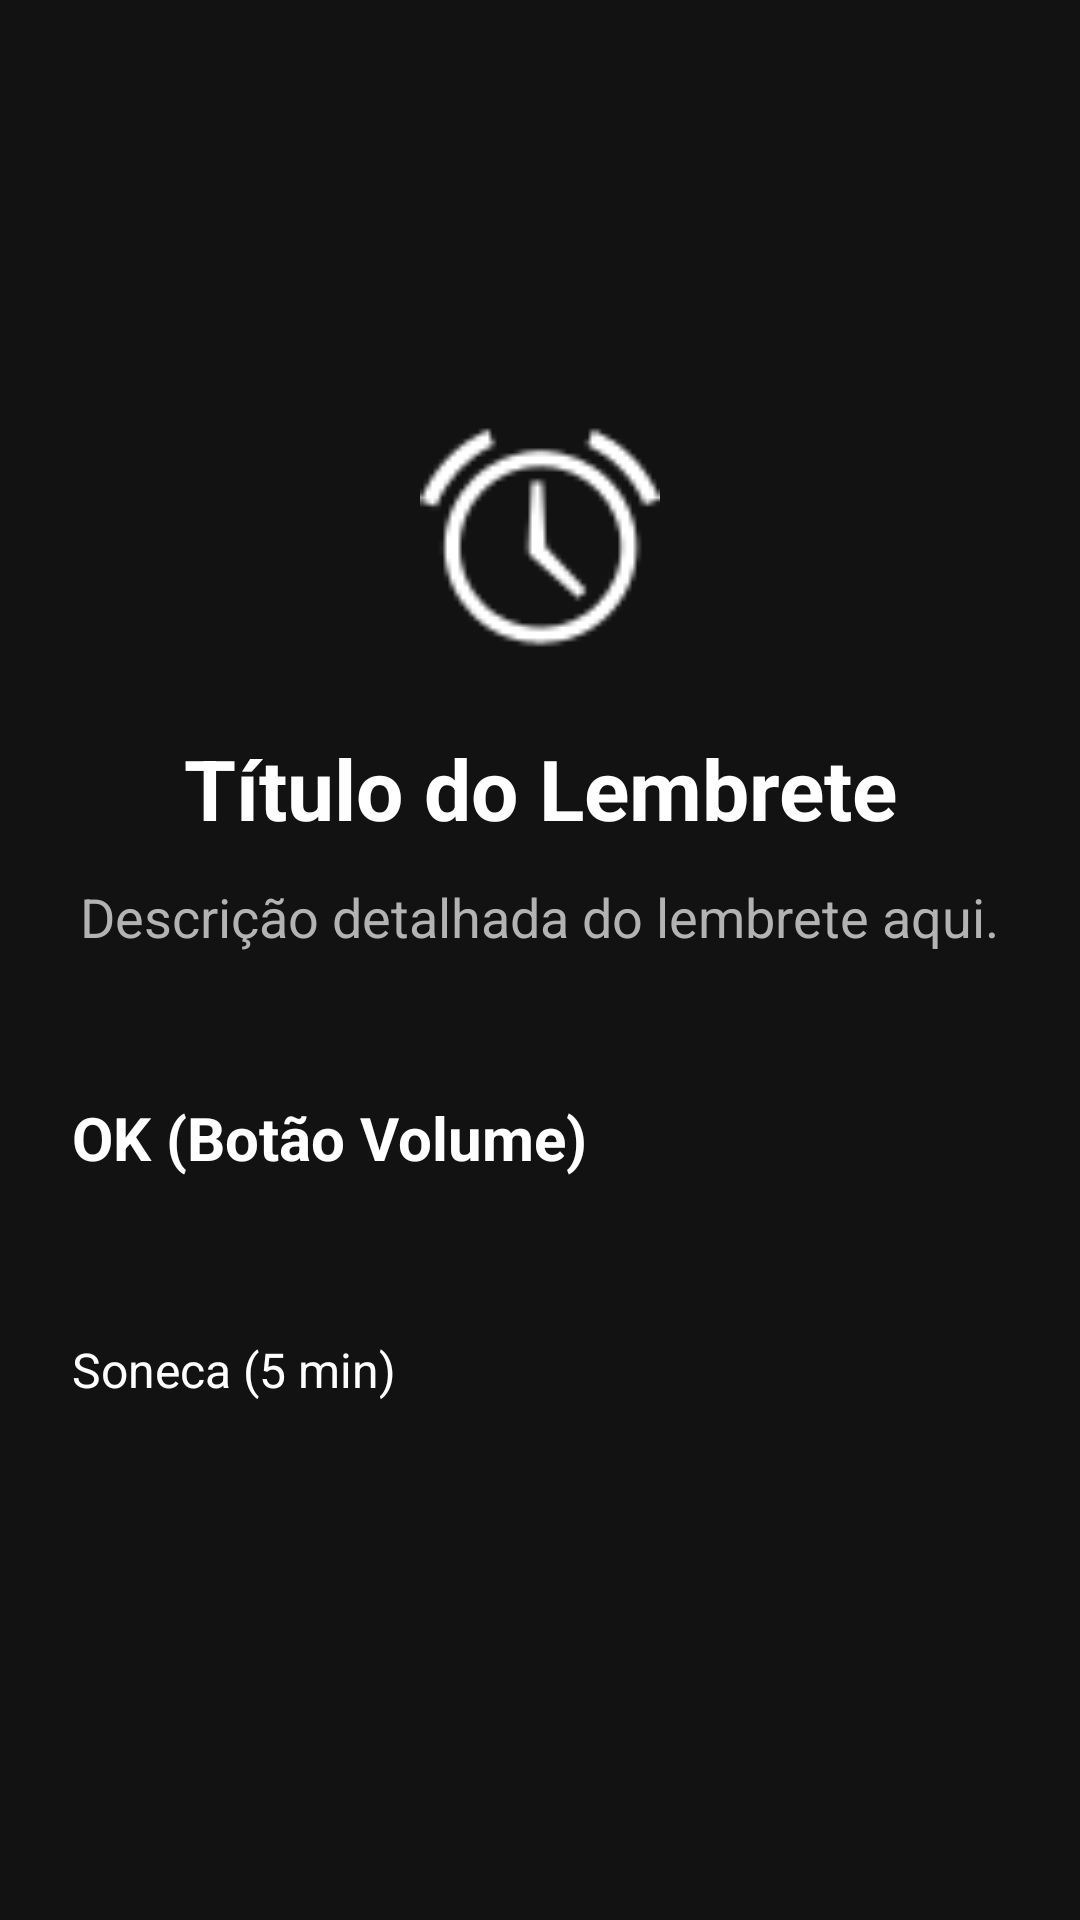

Named icons in this screenshot (1080w x 1920h) and their centers, [x,y]:
Alarme: [540,537]
